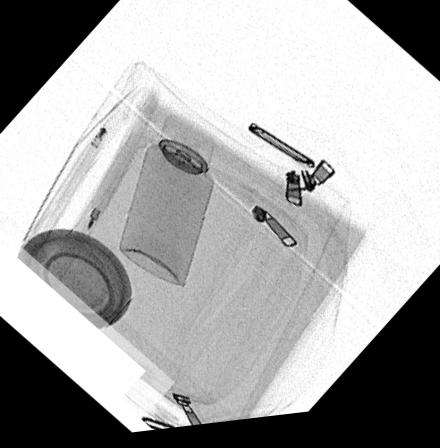Sprayer: (118, 119, 215, 291)
